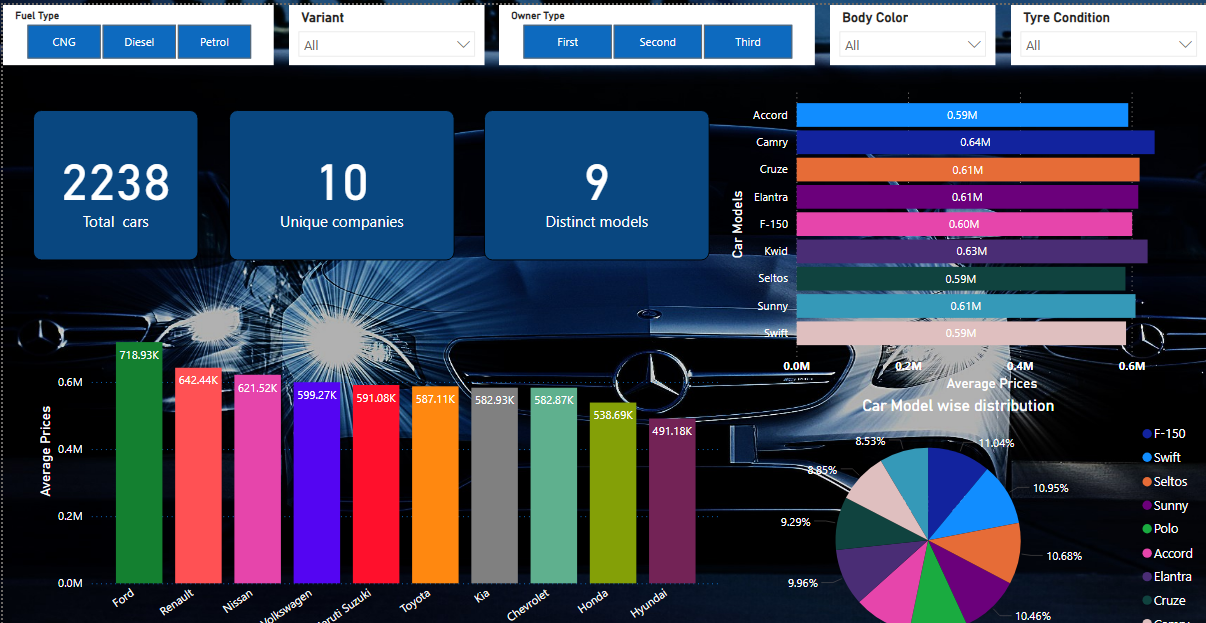

This screenshot's page, from the dashboard's own definition file:
{"tool":"powerbi","page":{"name":"Page 2","canvas":[1280,720],"ordinal":0},"visuals":[{"type":"columnChart","fields":{"Category":["second_hand_cars.Company Name"],"Y":["second_hand_cars.AvgPriceAccord"]},"box":[32,320,736,384],"z":0},{"type":"slicer","fields":{"Values":["second_hand_cars.Owner Type"]},"box":[544,16,336,64],"z":1000},{"type":"card","fields":{"Values":["second_hand_cars.Total_cars"]},"box":[32,112,176,160],"z":2000},{"type":"pieChart","title":"Car Model wise distribution","fields":{"Category":["second_hand_cars.Car Name"],"Y":["second_hand_cars.Total_cars"]},"box":[752,416,528,288],"z":3000},{"type":"slicer","fields":{"Values":["second_hand_cars.Fuel Type"]},"box":[0,16,288,64],"z":4000},{"type":"slicer","fields":{"Values":["second_hand_cars.Variant"]},"box":[304,16,224,64],"z":5000},{"type":"barChart","fields":{"Category":["second_hand_cars.Car Name"],"Y":["second_hand_cars.AvgPriceAccord","second_hand_cars.AvgPriceCamry","second_hand_cars.AvgPriceCruze","second_hand_cars.AvgPriceElantra","second_hand_cars.AvgPriceF150","second_hand_cars.AvgPriceKwid","second_hand_cars.AvgPricePolo","second_hand_cars.AvgPriceSeltos","second_hand_cars.AvgPriceSunny","second_hand_cars.AvgPriceSwift"]},"box":[768,80,512,336],"z":6000},{"type":"card","fields":{"Values":["second_hand_cars.Unique companies"]},"box":[240,112,240,160],"z":7000},{"type":"card","fields":{"Values":["second_hand_cars.distinct models"]},"box":[512,112,240,160],"z":8000},{"type":"slicer","fields":{"Values":["second_hand_cars.Tyre Condition"]},"box":[1104,16,176,64],"z":9000},{"type":"slicer","fields":{"Values":["second_hand_cars.Body Color"]},"box":[896,16,192,64],"z":10000}]}

Visuals, with their boxes in screenshot pixels (x1, y1, x2, y2):
columnChart - second_hand_cars.Company Name x second_hand_cars.AvgPriceAccord: 169 263 795 590
slicer - second_hand_cars.Owner Type: 605 4 891 59
card - second_hand_cars.Total_cars: 169 86 318 222
"Car Model wise distribution" pieChart: 782 345 1205 590
slicer - second_hand_cars.Fuel Type: 141 4 387 59
slicer - second_hand_cars.Variant: 400 4 591 59
barChart - second_hand_cars.Car Name x second_hand_cars.AvgPriceAccord: 795 59 1205 345
card - second_hand_cars.Unique companies: 346 86 550 222
card - second_hand_cars.distinct models: 577 86 782 222
slicer - second_hand_cars.Tyre Condition: 1082 4 1205 59
slicer - second_hand_cars.Body Color: 904 4 1068 59
